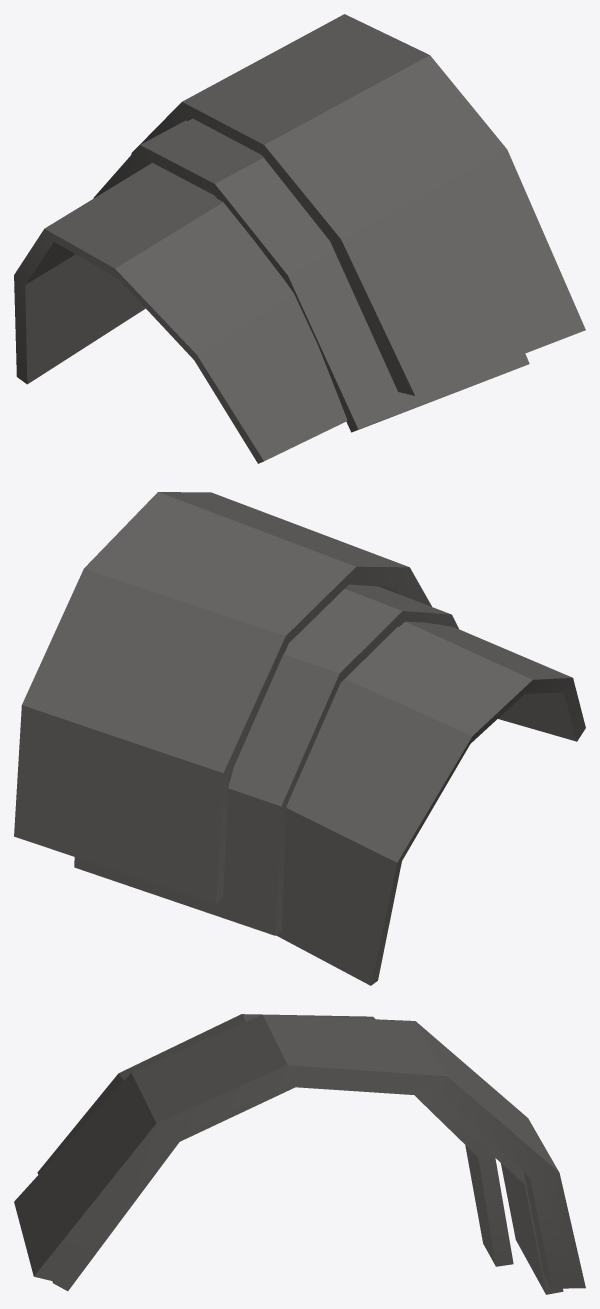
The model's file is SM_shoulderplate.fbx.
3 views of the same model, one above another, from view 1: azimuth 30°, elevation 25°; view 2: azimuth 150°, elevation 25°; view 3: azimuth 270°, elevation 25° (orthographic). The views are drawn at different scales.
Visible parts, largest first — view 1: shoulderplate; view 2: shoulderplate; view 3: shoulderplate.
Boxes of the visible parts, box(x1,y1,x2,y2) form: shoulderplate: box(14, 14, 585, 463); shoulderplate: box(14, 492, 585, 985); shoulderplate: box(14, 1014, 585, 1294).
Size of the model in its own units: 27.31 by 22.55 by 35.29.
